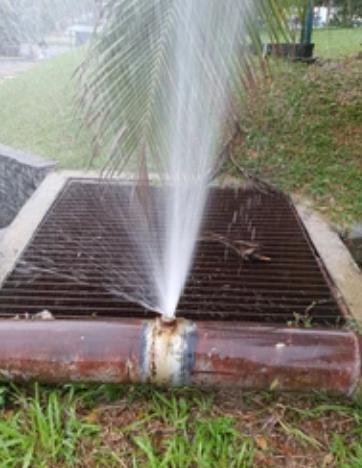pipe burst: (0, 0, 261, 321)
